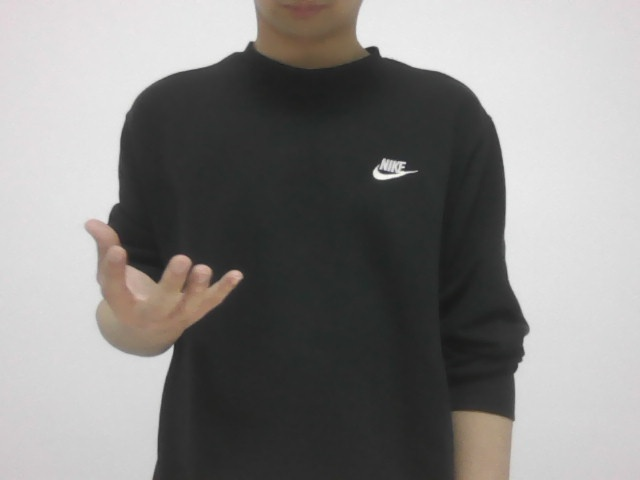flavor: (65, 214, 246, 340)
